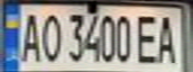0: (115, 10, 136, 64), (100, 10, 118, 63)
3: (63, 10, 84, 63)
4: (81, 9, 100, 63)
A: (15, 9, 42, 63), (154, 11, 181, 65)
E: (133, 11, 160, 65)
O: (36, 9, 63, 63)
